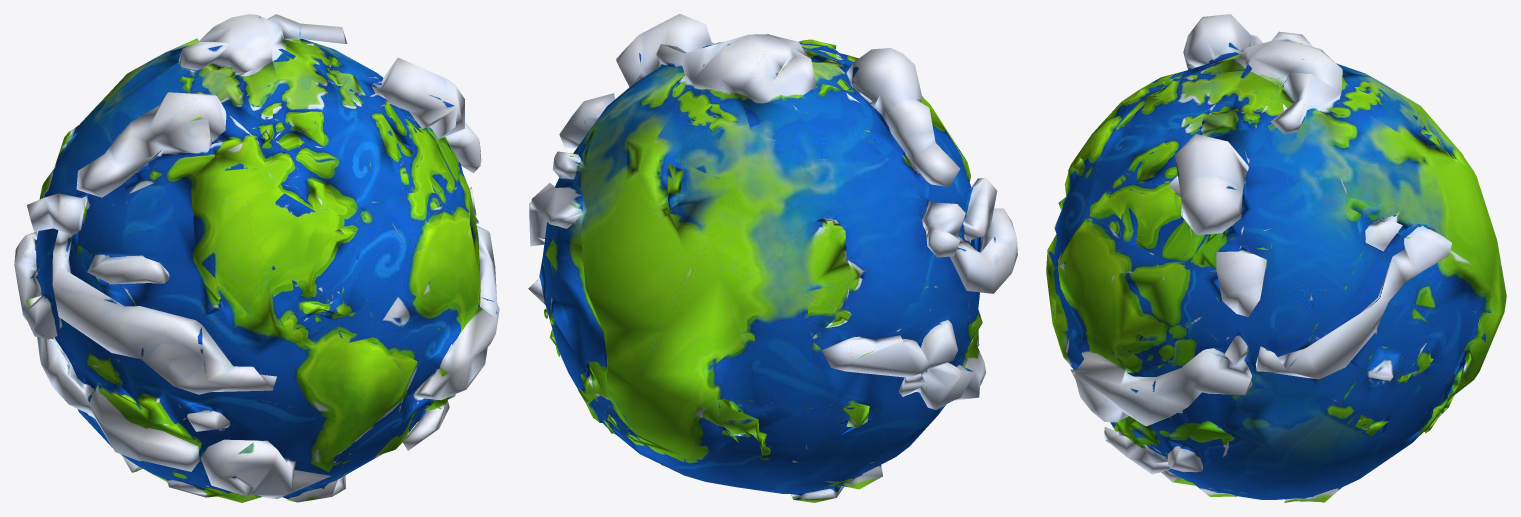
The model's file is earth.glb.
3 renders of one model, left to right at view 1: azimuth 30°, elevation 25°; view 2: azimuth 150°, elevation 25°; view 3: azimuth 270°, elevation 25°, orthographic. The views are drawn at different scales.
Bounding box in the file's own units: 1.88 × 1.84 × 1.78.
1 material, 1 textured.
